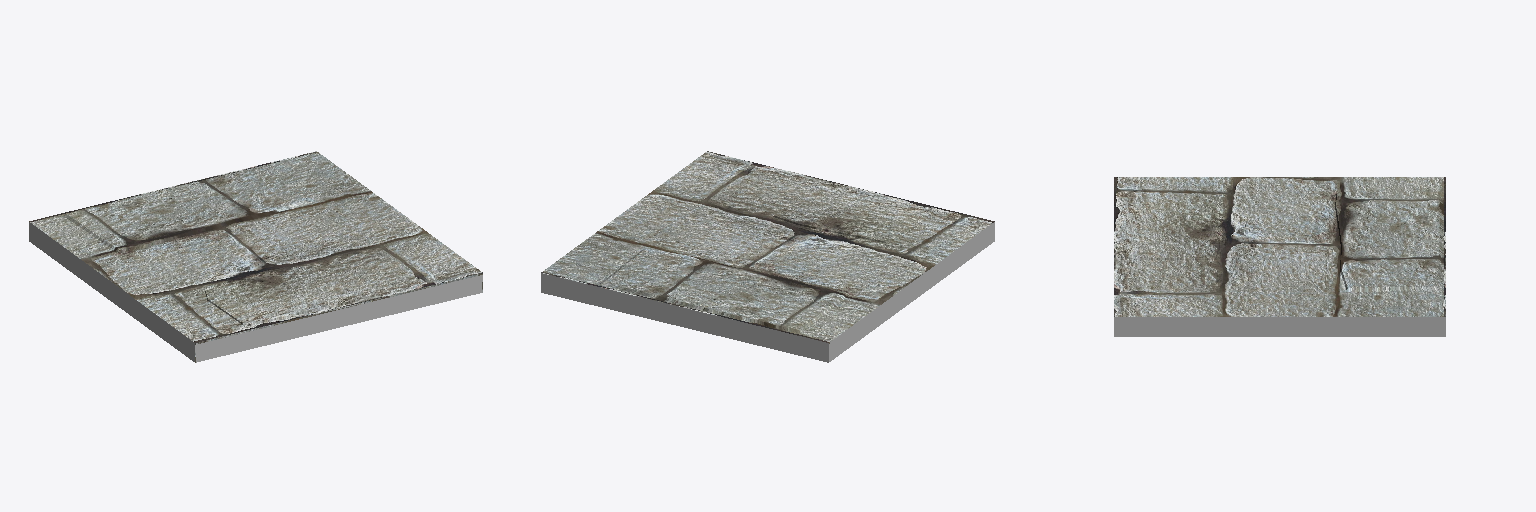
The picture shows the model from 3 angles: view 1: azimuth 30°, elevation 25°; view 2: azimuth 150°, elevation 25°; view 3: azimuth 270°, elevation 25°; orthographic projection.
Visible parts, largest first — view 1: Cube; view 2: Cube; view 3: Cube.
Boxes of the visible parts, x1,y1,x2,y2 form: Cube: [29, 151, 482, 362]; Cube: [541, 151, 994, 362]; Cube: [1114, 177, 1445, 336].
Bounding box in the file's own units: 2 × 0.1447 × 2.
1 materials, 1 textured.